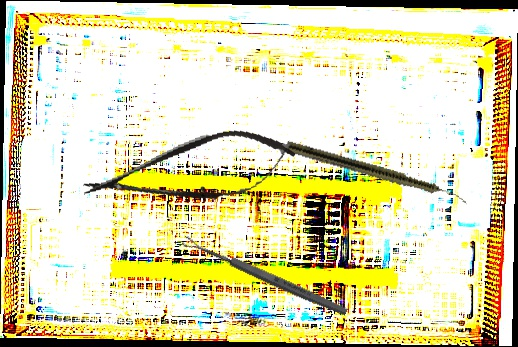Handpiece: (283, 139, 472, 207)
Micro Scissor: (77, 118, 301, 224)
Surgical Spoon: (181, 234, 349, 318)
